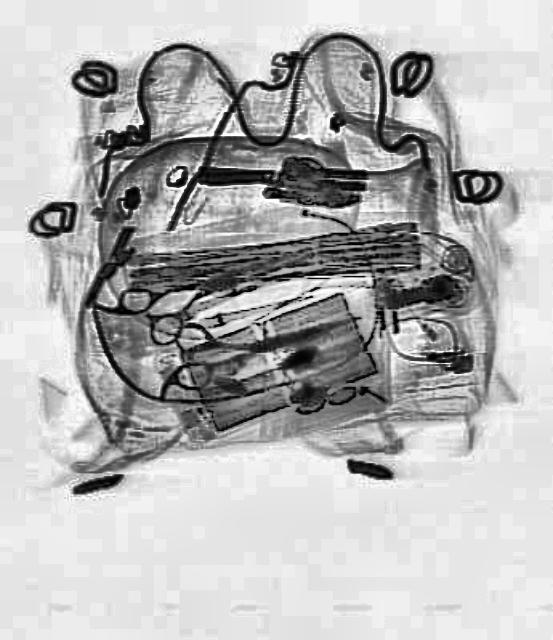Scissors: (112, 238, 254, 354), (167, 306, 297, 388)
